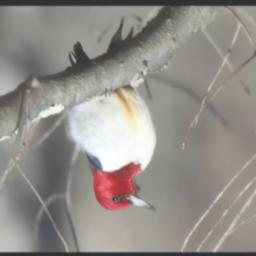Woodpecker: (61, 13, 161, 211)
